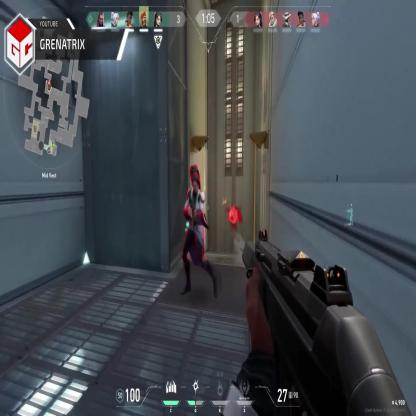enemy: (180, 161, 219, 302)
enemy_head: (191, 172, 200, 193)
